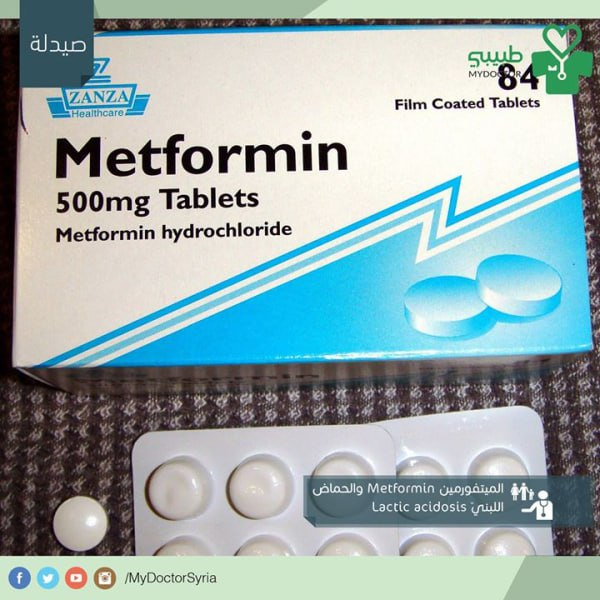Medicine: (5, 25, 593, 392)
